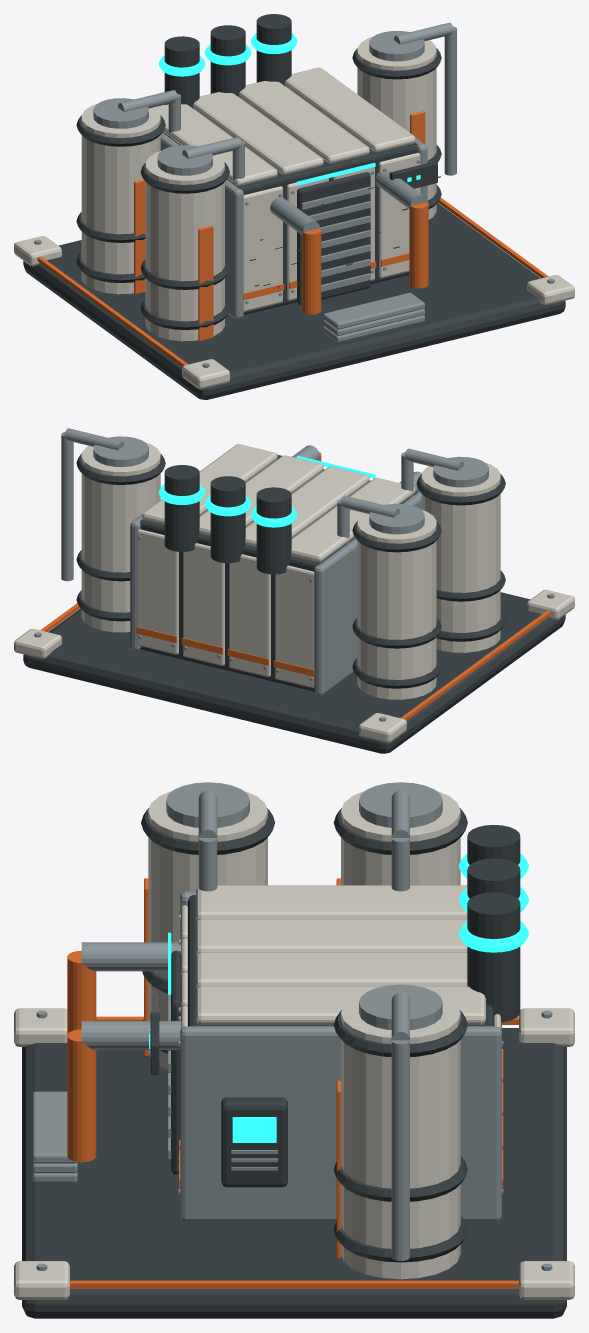
Rendered from SM_FuelCellPlant_Body.001.fbx.
3 renders of one model, top to bottom at view 1: azimuth 30°, elevation 25°; view 2: azimuth 150°, elevation 25°; view 3: azimuth 270°, elevation 25°, orthographic. The views are drawn at different scales.
Parts seen in each view (by area): view 1: SM_FuelCellPlant_Body.001; view 2: SM_FuelCellPlant_Body.001; view 3: SM_FuelCellPlant_Body.001.
Boxes of the visible parts, left/top/right/bottom form: SM_FuelCellPlant_Body.001: left=14, top=14, right=574, bottom=399; SM_FuelCellPlant_Body.001: left=14, top=428, right=574, bottom=753; SM_FuelCellPlant_Body.001: left=14, top=782, right=574, bottom=1318.
Size of the model in its own units: 503 by 422 by 265.
